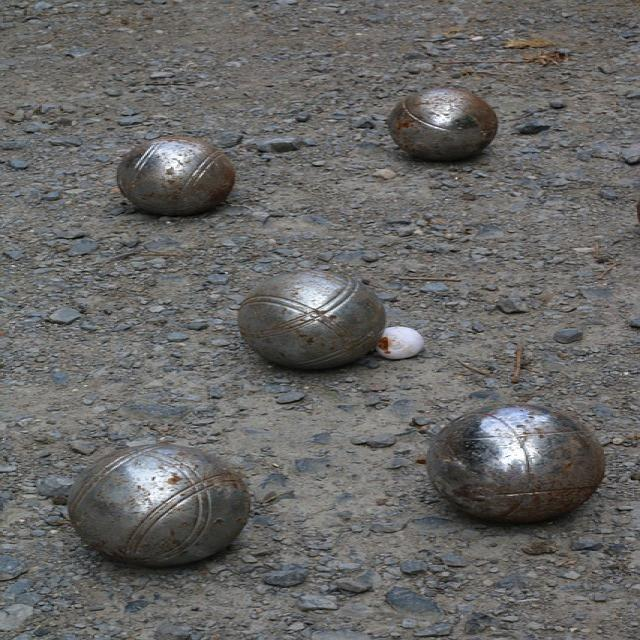hatball: (375, 324, 432, 362)
petanque: (55, 437, 259, 580), (416, 395, 618, 538), (226, 260, 395, 378), (110, 130, 255, 226), (382, 78, 521, 173)
